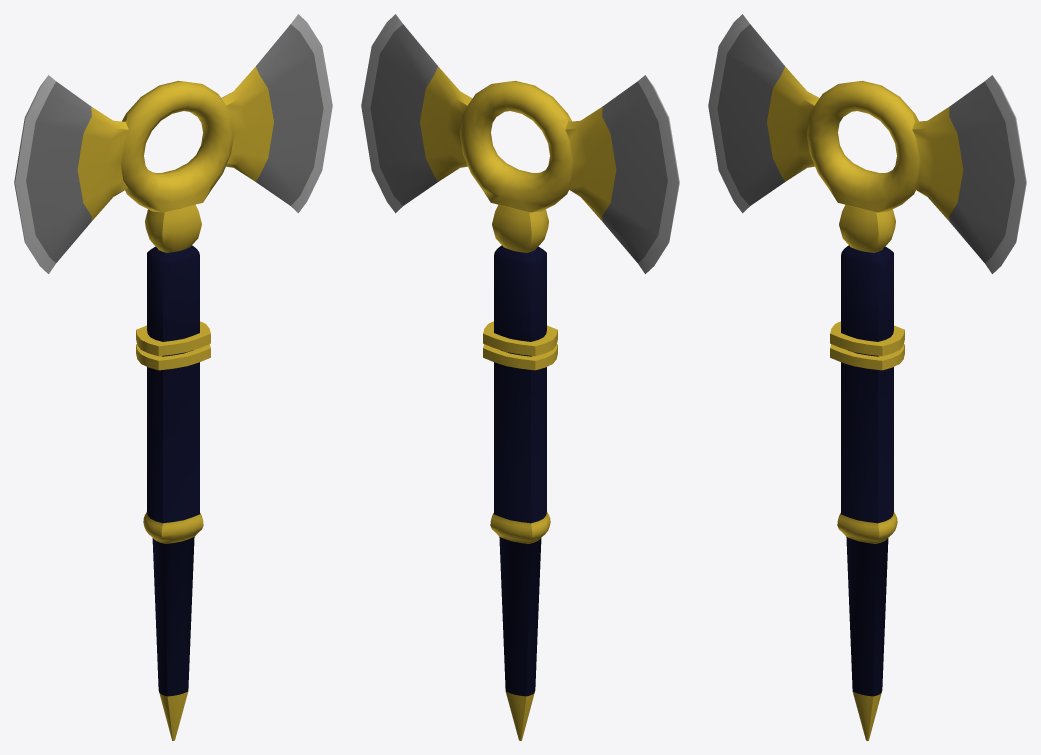
Rendered from balta 2 .fbx.
The picture shows the model from 3 angles, left to right: view 1: azimuth 30°, elevation 25°; view 2: azimuth 150°, elevation 25°; view 3: azimuth 330°, elevation 25°; orthographic projection.
Parts seen in each view (by area): view 1: Torus; view 2: Torus; view 3: Torus.
Boxes of the visible parts, x1,y1,x2,y2 form: Torus: (14,14,332,740); Torus: (361,14,679,740); Torus: (708,14,1026,740).
Size of the model in its own units: 3.02 by 6.33 by 0.4654.
